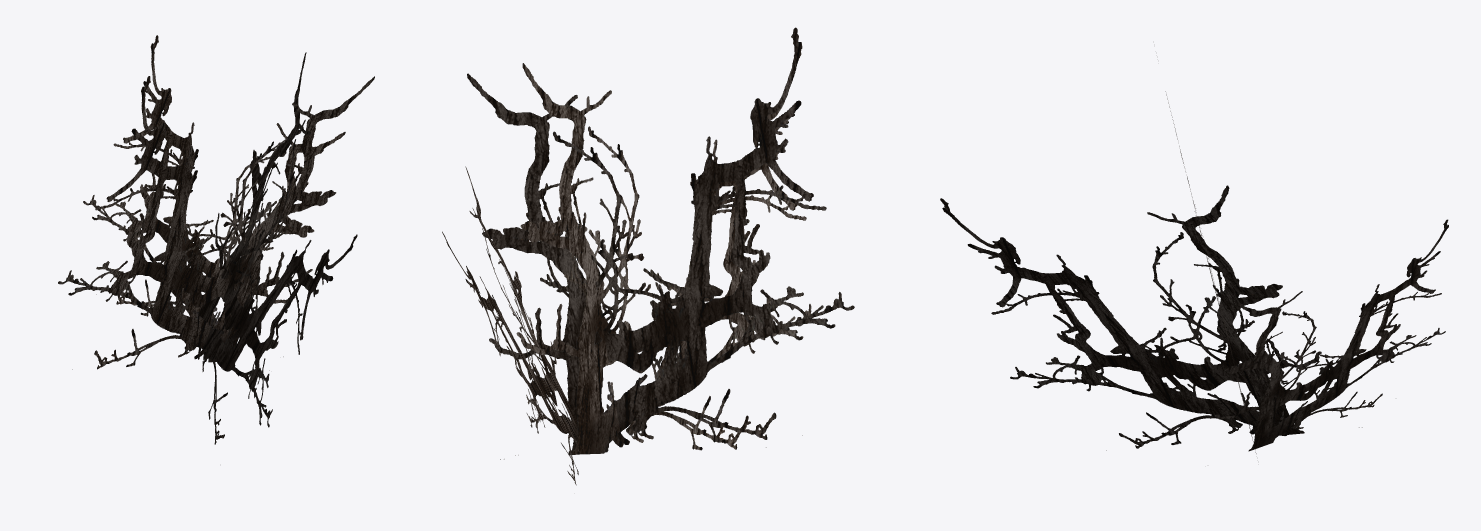
File: Bush1.fbx
The picture shows the model from 3 angles, left to right: view 1: azimuth 30°, elevation 25°; view 2: azimuth 150°, elevation 25°; view 3: azimuth 270°, elevation 25°; orthographic projection. The views are drawn at different scales.
Parts seen in each view (by area): view 1: Bush1; view 2: Bush1; view 3: Bush1.
Boxes of the visible parts, bbox=[...] form: Bush1: bbox=[58, 35, 374, 444]; Bush1: bbox=[442, 27, 854, 485]; Bush1: bbox=[940, 91, 1448, 453].
Size of the model in its own units: 7.64 by 7.96 by 9.42.
